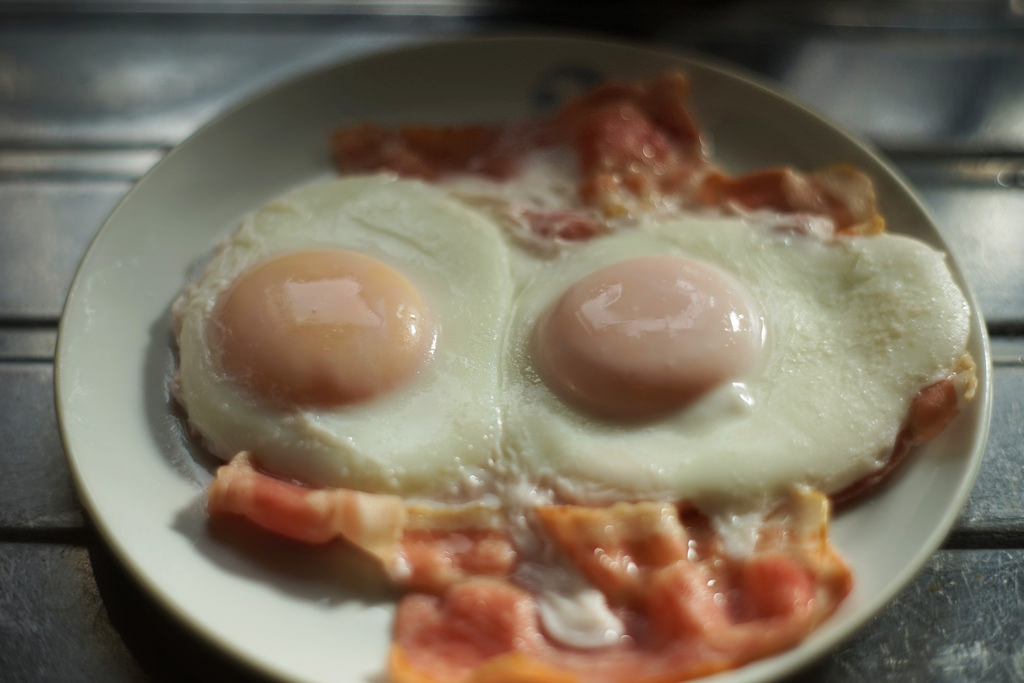fried egg: (503, 230, 928, 479), (189, 183, 517, 487)
